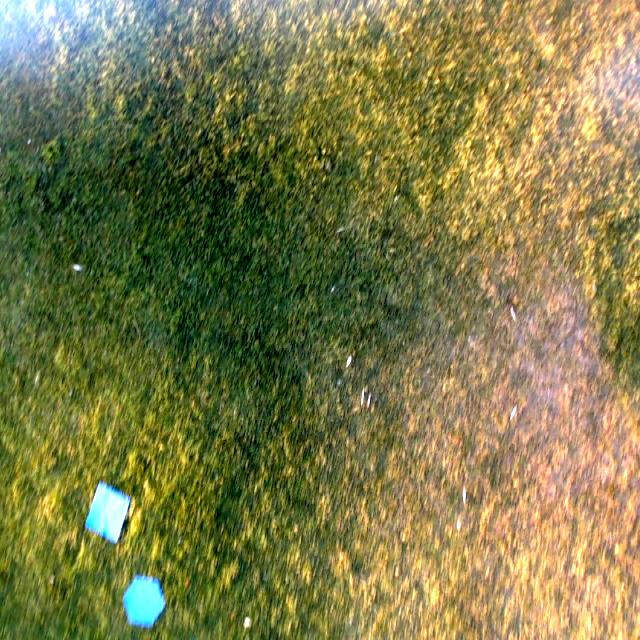blue_hexagon: (124, 578, 164, 627)
blue_square: (84, 484, 133, 545)
